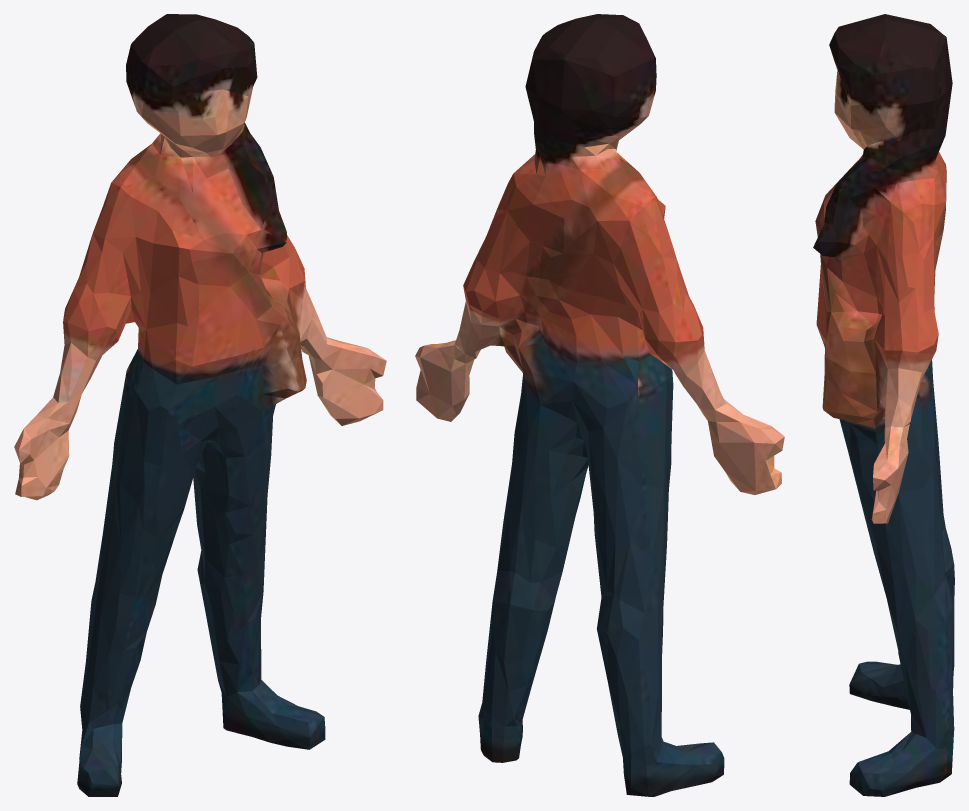
Rendered from habitant-loin.glb.
The picture shows the model from 3 angles, left to right: view 1: azimuth 30°, elevation 25°; view 2: azimuth 150°, elevation 25°; view 3: azimuth 270°, elevation 25°; orthographic projection. The views are drawn at different scales.
Visible parts, largest first — view 1: habitant; view 2: habitant; view 3: habitant.
Boxes of the visible parts, x1=… form: habitant: x1=14, y1=14, x2=386, y2=796; habitant: x1=415, y1=14, x2=784, y2=796; habitant: x1=813, y1=14, x2=954, y2=796.
Bounding box in the file's own units: 0.5213 × 1.01 × 0.1788.
Materials: 1 (1 with a texture image).
